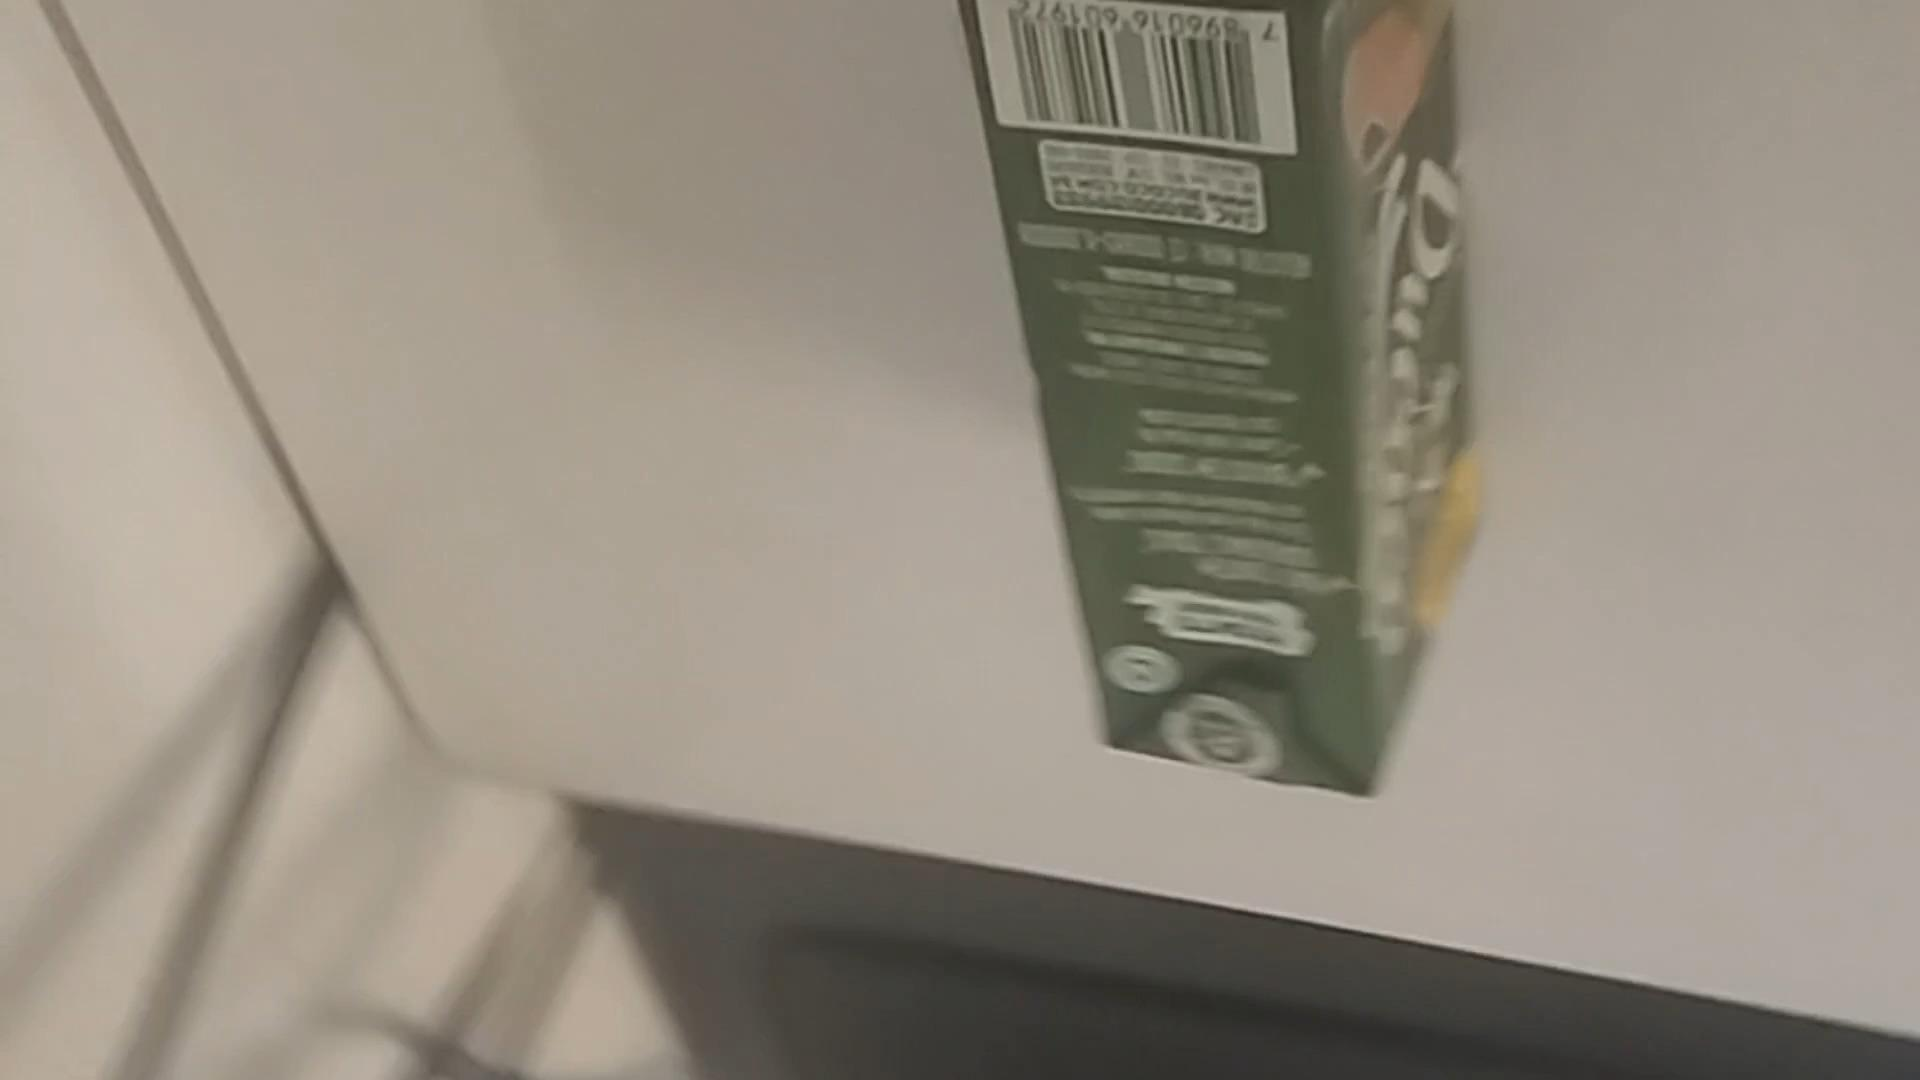coco: (961, 5, 1474, 804)
